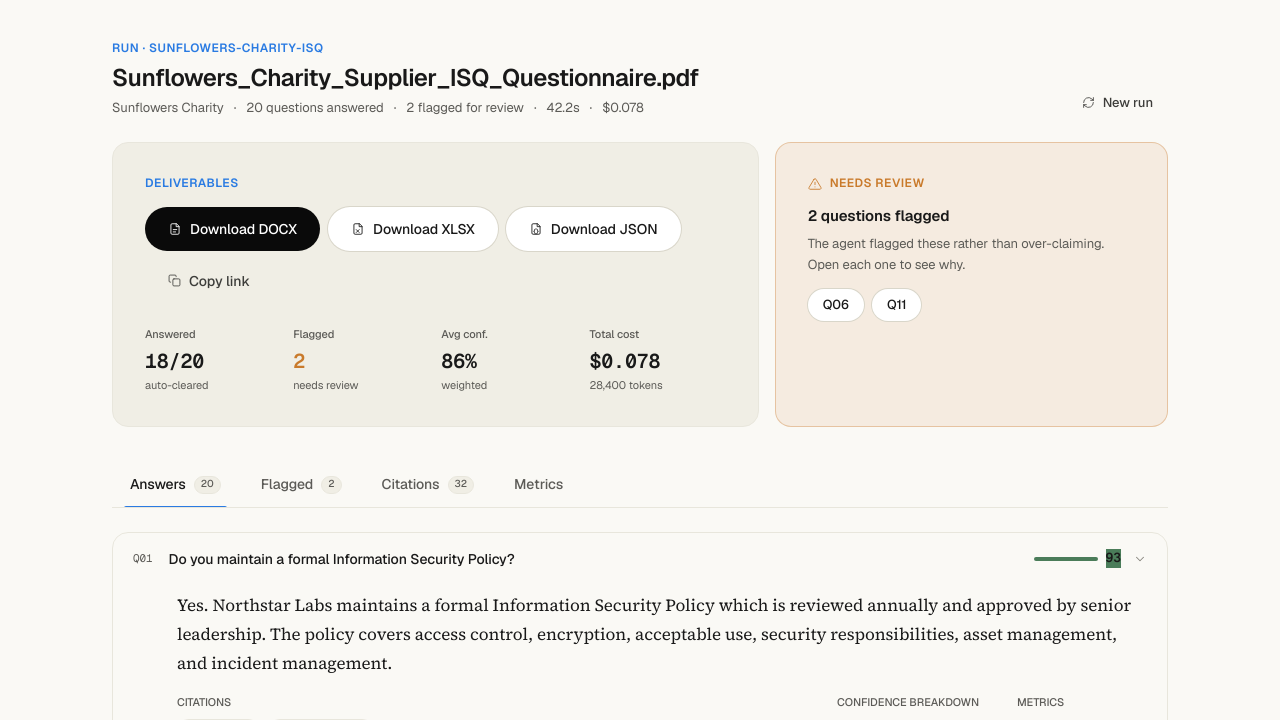
ResultsPage — tabs › shows the derived top citations on the Citations tab
The image size is (1280, 720).
Expected: the text "Run · sunflowers-charity-isq" is shown, [112,40,324,56]
Click the tab "Citations 32".
click(428, 484)  # box [364,462,492,506]
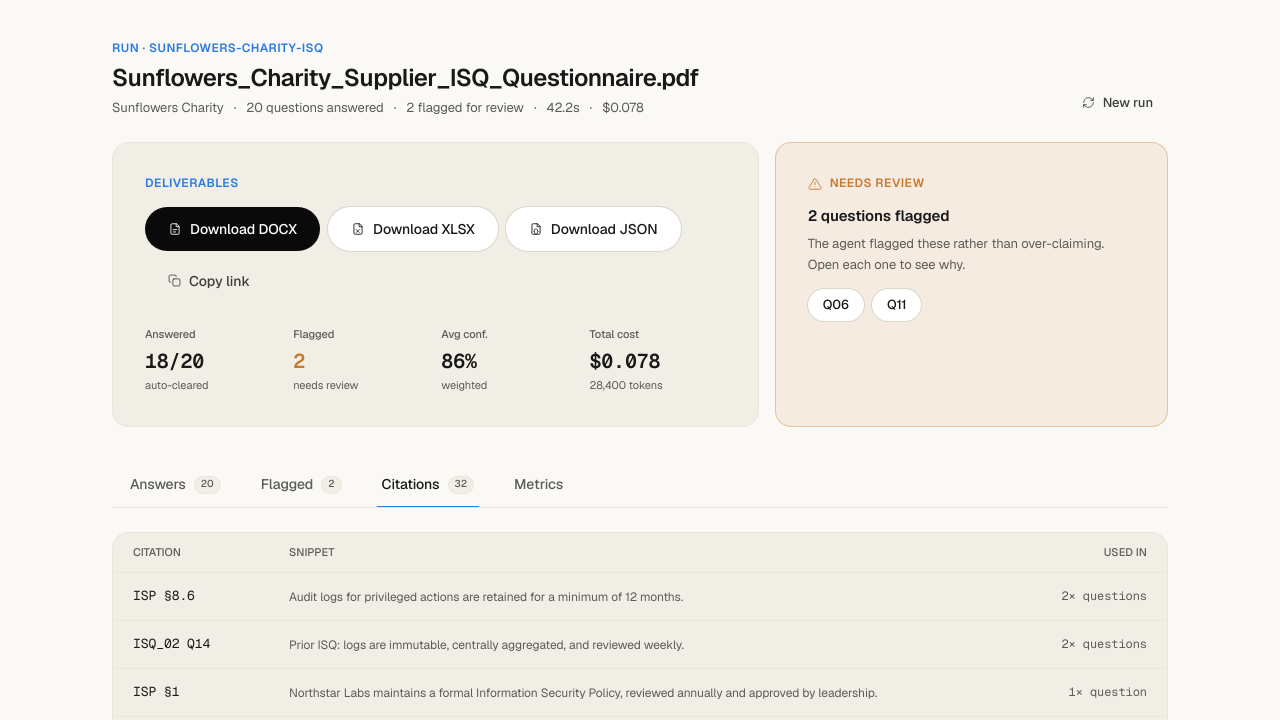
Result: the text "ISP §8.6" is shown at [133,587,195,604]
Result: the text "2× questions" in the row of "ISP §8.6" is shown at [1061,588,1147,604]
Result: the button "Do you maintain a formal Information Security Policy?" is gone
